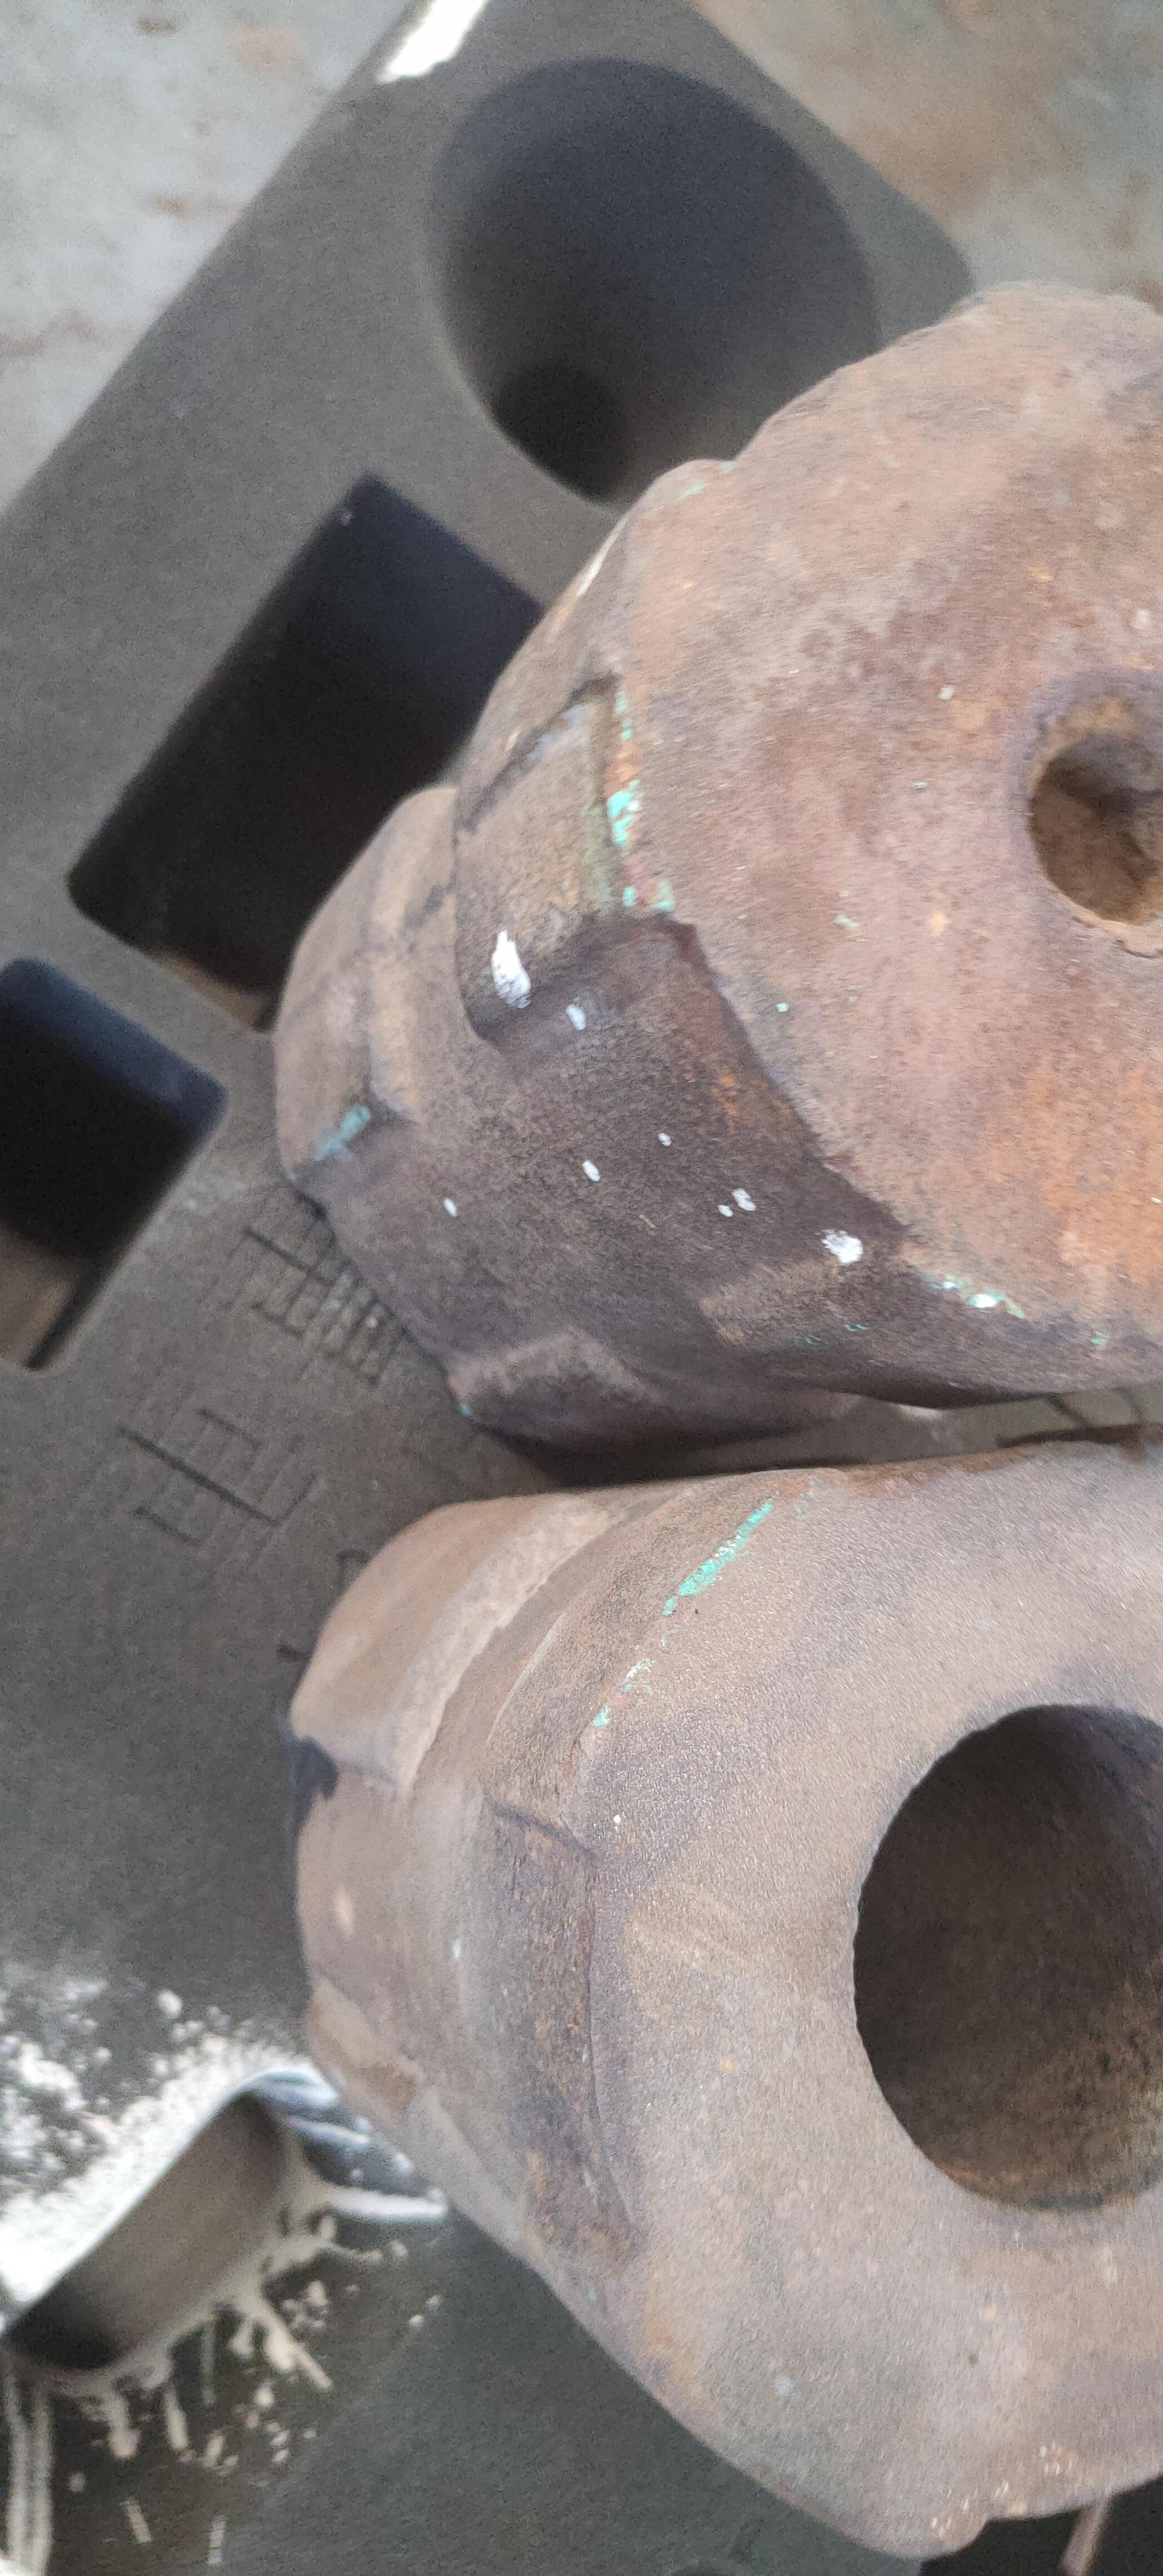pouring hole: (412, 54, 887, 526)
